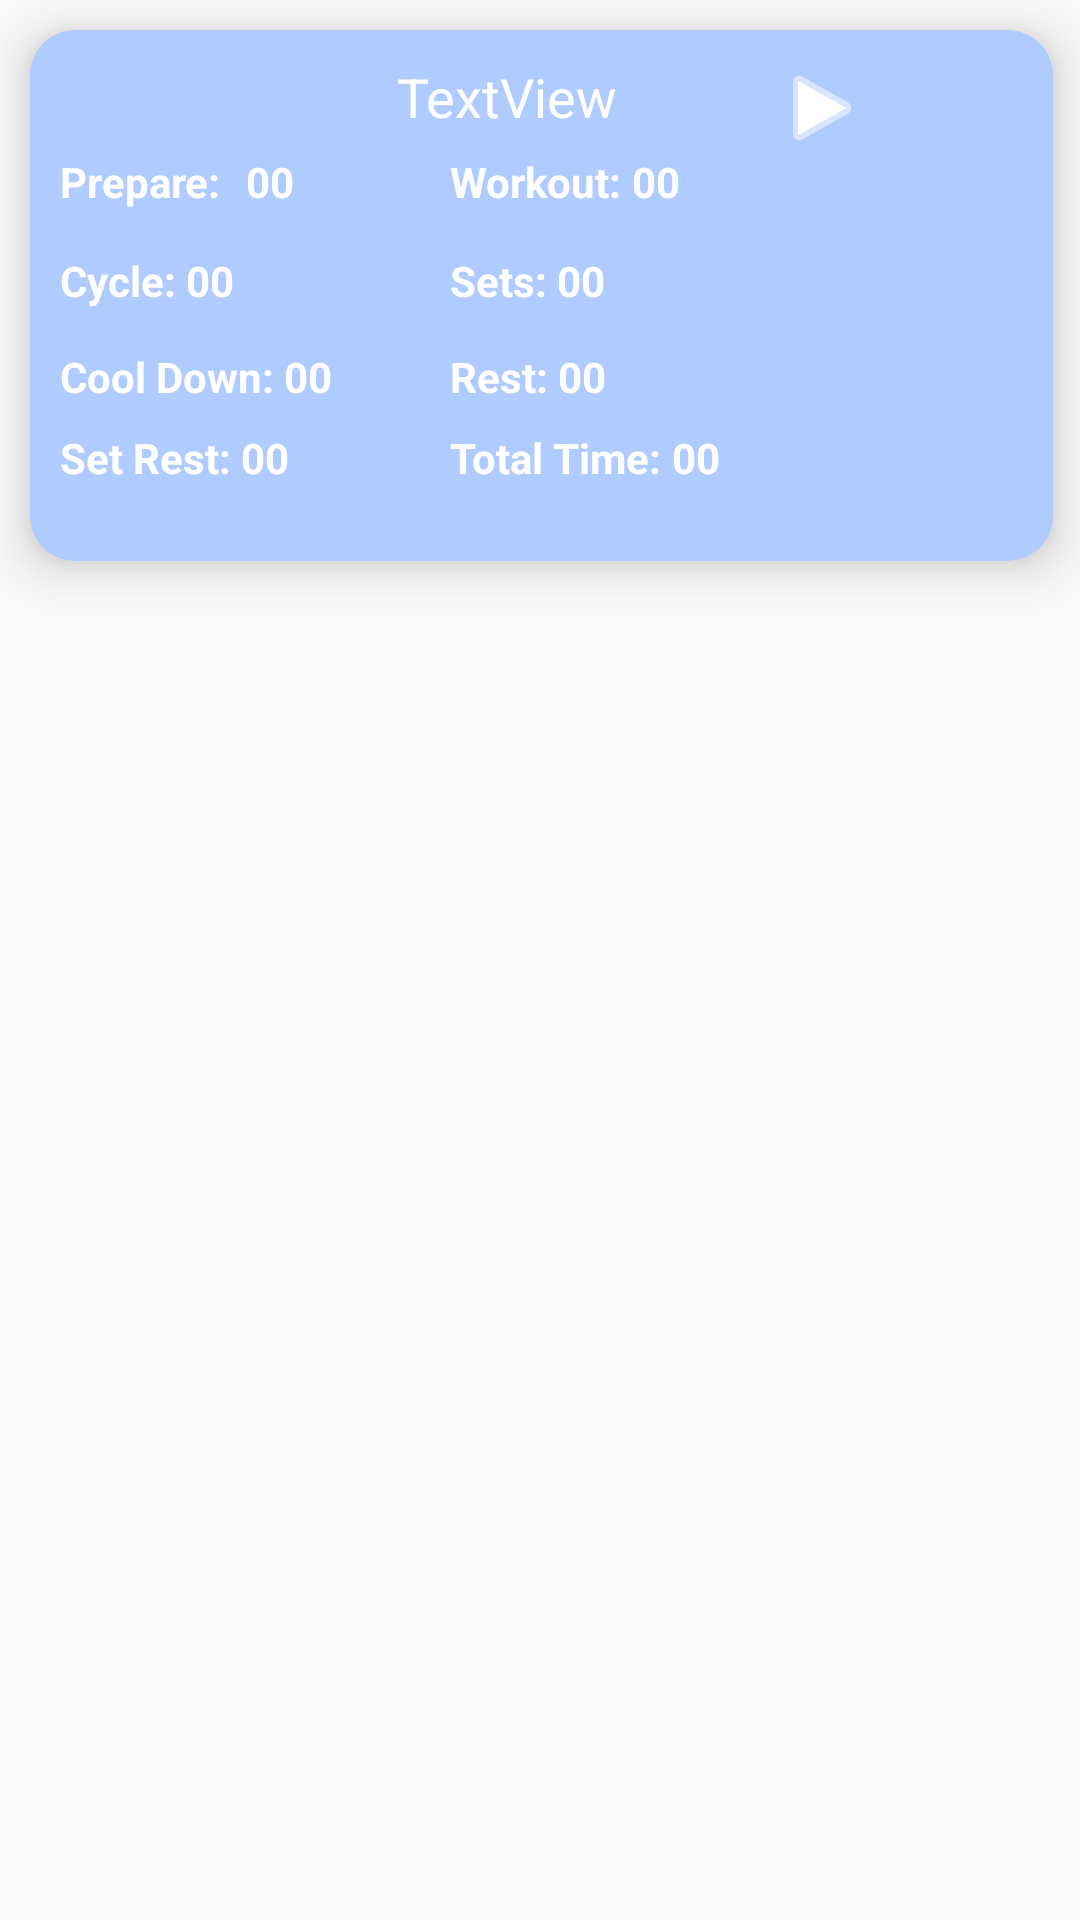

Where icons sit on this 1080x1920 app screen, as detection(x1, y1, x2, y2):
play: detection(793, 76, 851, 140)
